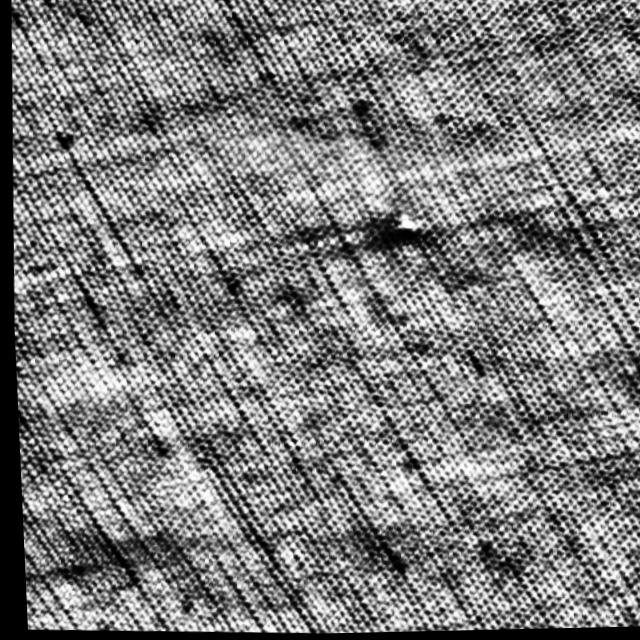Hole: (373, 210, 421, 244)
